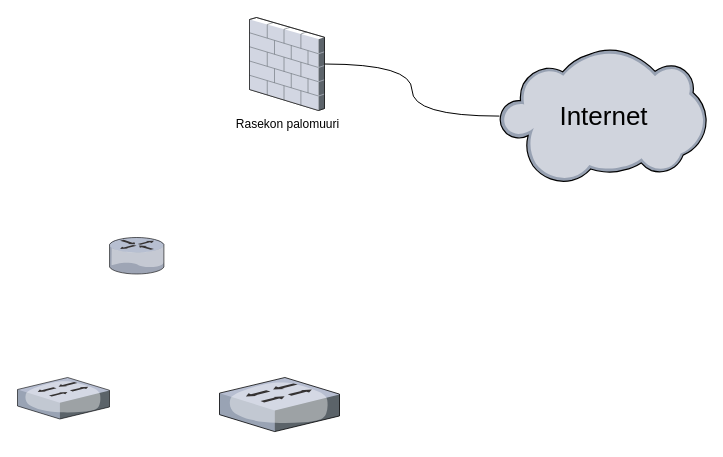
This 723x457 diagram has some shape labels left out. The shapes that lost their labels are listed below. From the top down, each one's centre as x and y in pixels, then its label:
At [136,255]: "Rasekon retitys".
At [63,397]: "Rasekon verkko".
